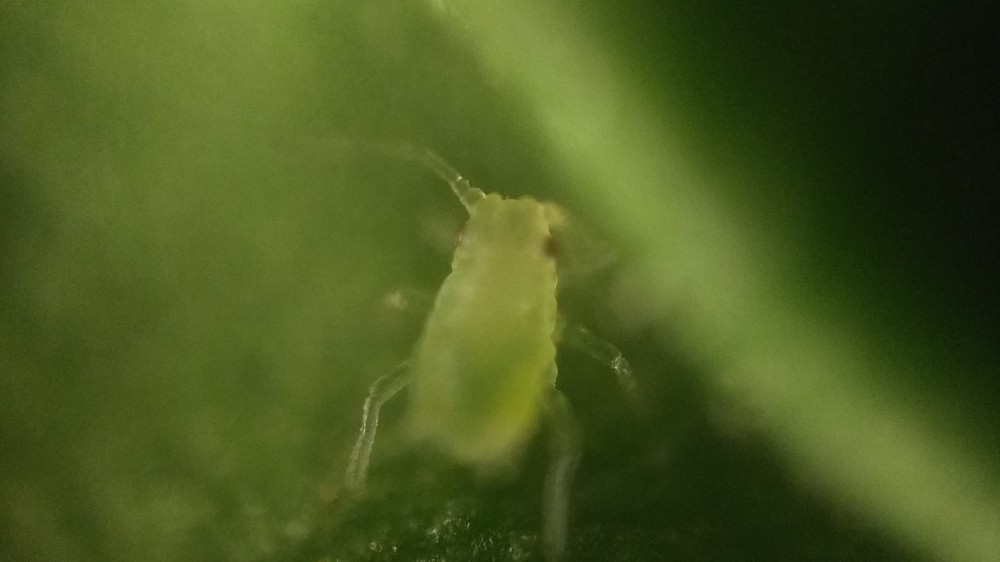Pulgon: (276, 132, 732, 552)
